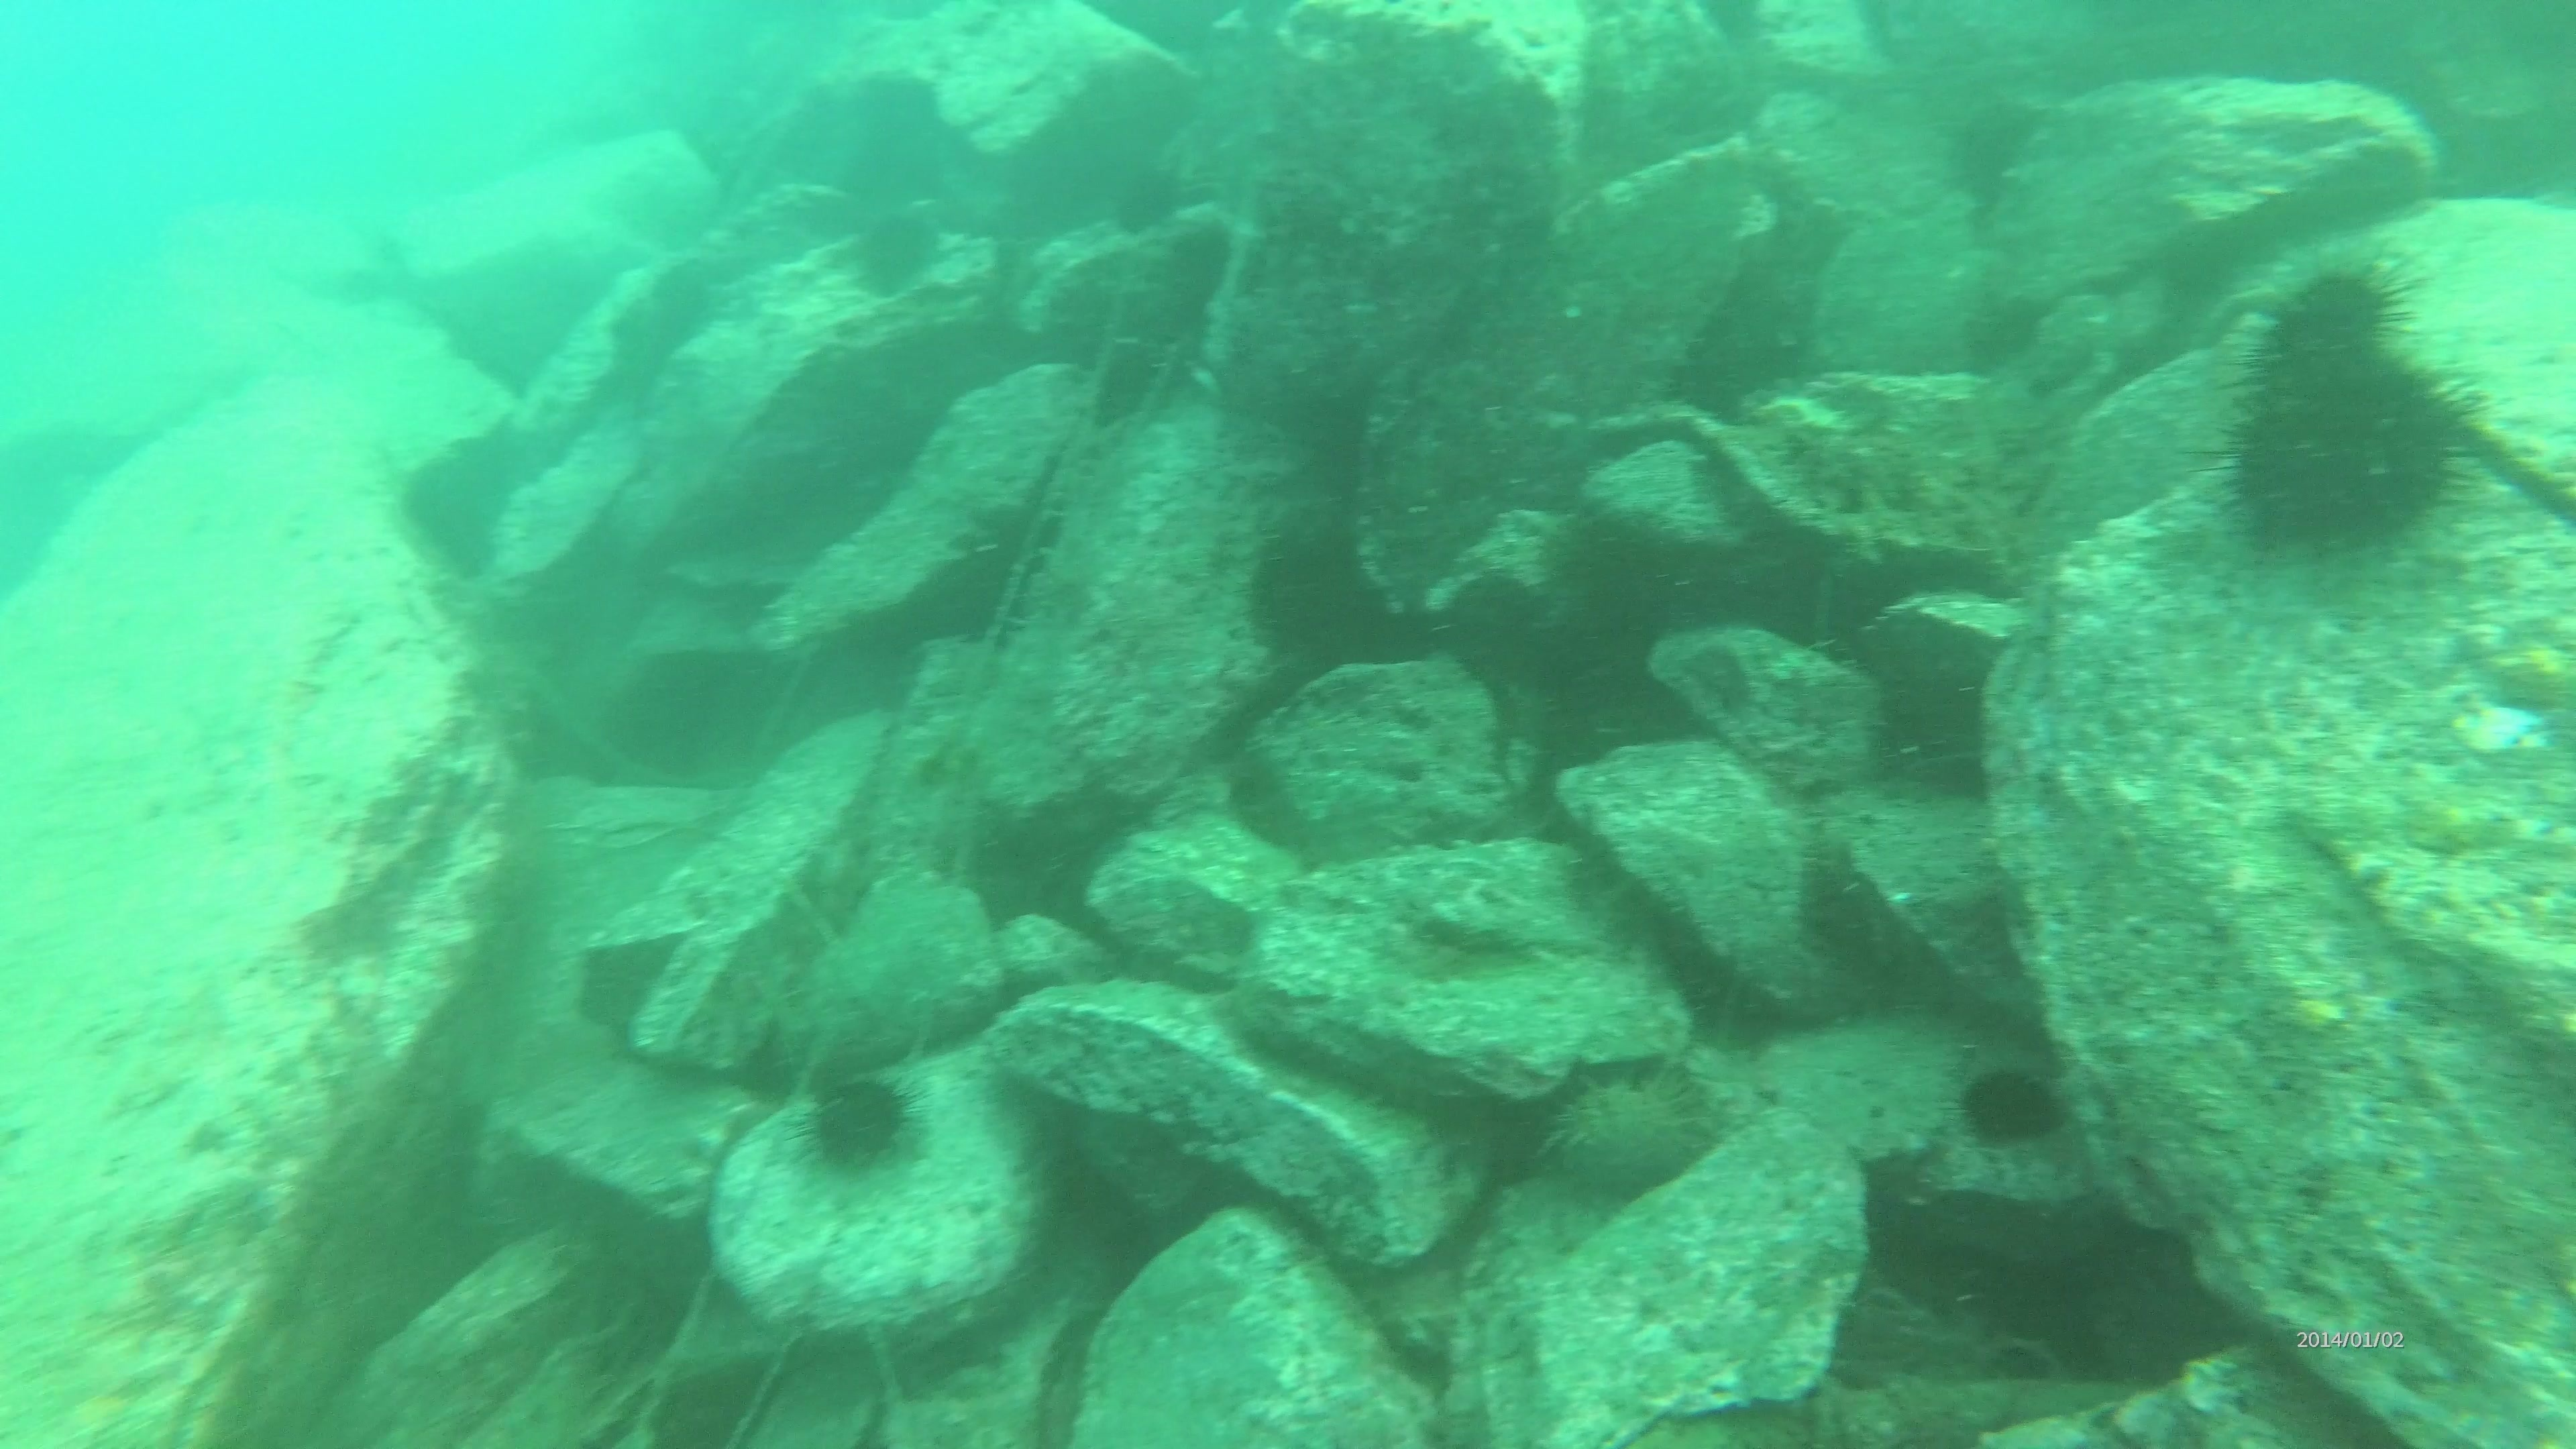echinus: (2213, 356, 2479, 561), (2238, 249, 2420, 403), (1539, 1060, 1720, 1203), (791, 1065, 924, 1182), (1950, 1056, 2070, 1155), (839, 202, 948, 303)
